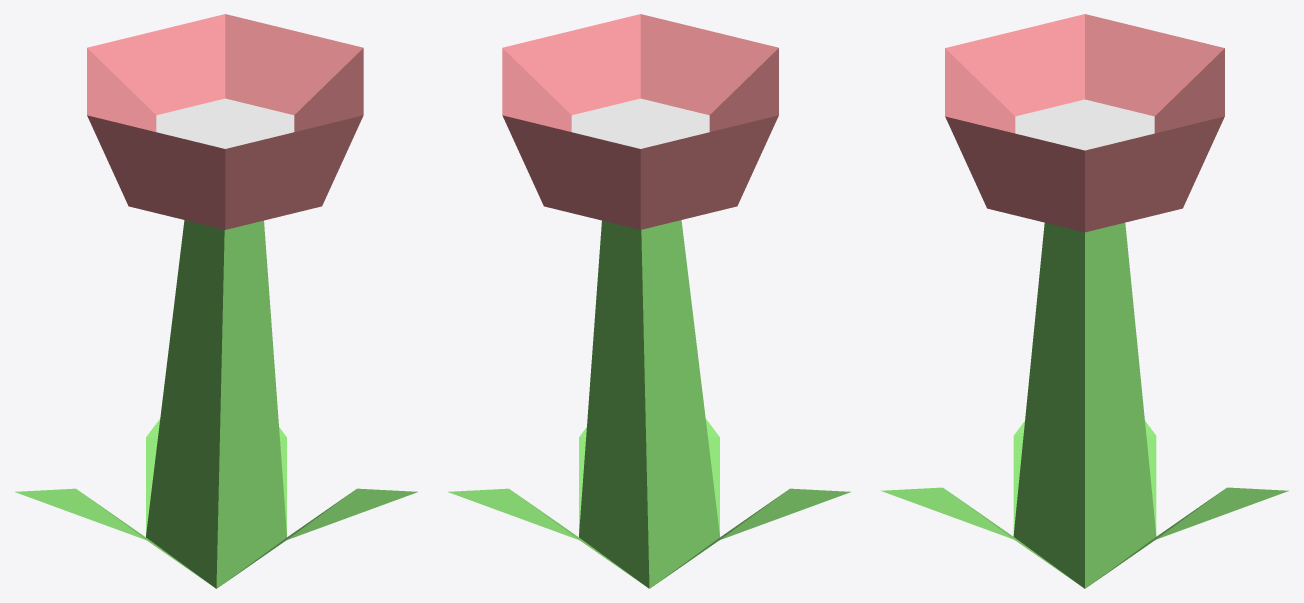
The model's file is flower_redC.glb.
3 renders of one model, left to right at view 1: azimuth 30°, elevation 25°; view 2: azimuth 150°, elevation 25°; view 3: azimuth 270°, elevation 25°, orthographic.
Visible parts, largest first — view 1: flower_redC; view 2: flower_redC; view 3: flower_redC.
Boxes of the visible parts, x1=… form: flower_redC: x1=15, y1=14, x2=417, y2=588; flower_redC: x1=448, y1=14, x2=850, y2=588; flower_redC: x1=881, y1=14, x2=1288, y2=588.
Size of the model in its own units: 0.1806 by 0.2325 by 0.1811.
